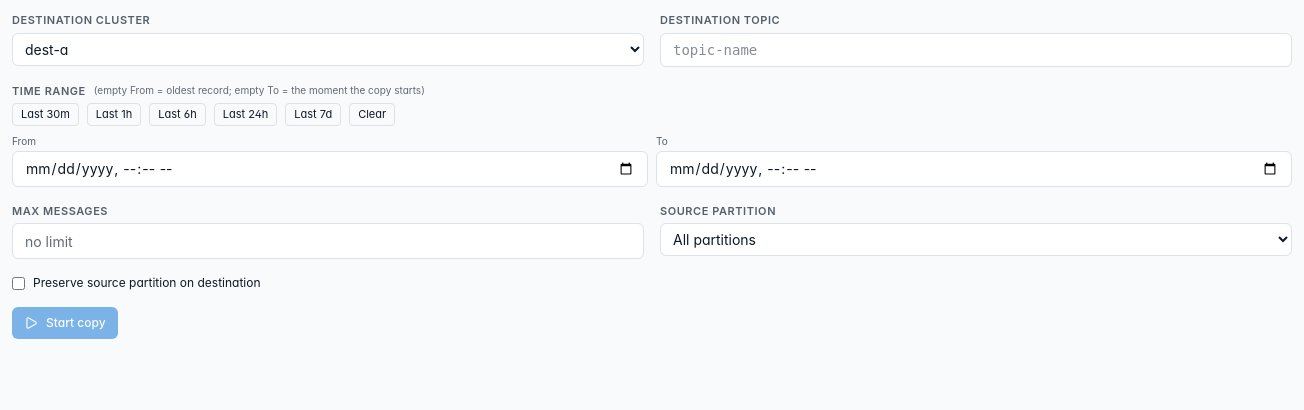
Test: BulkCopyPanel errors › still surfaces other errors verbatim
Type "dest-topic" into the field with placeholder "topic-name" at (976,50), box [660, 32, 1292, 66]
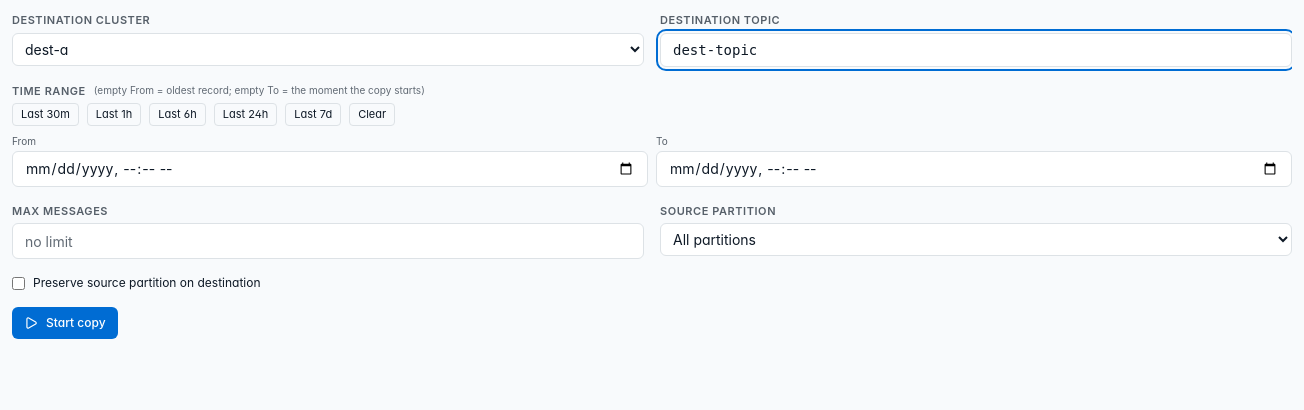
Click the button "Start copy" at (65,323), box [12, 307, 118, 339]
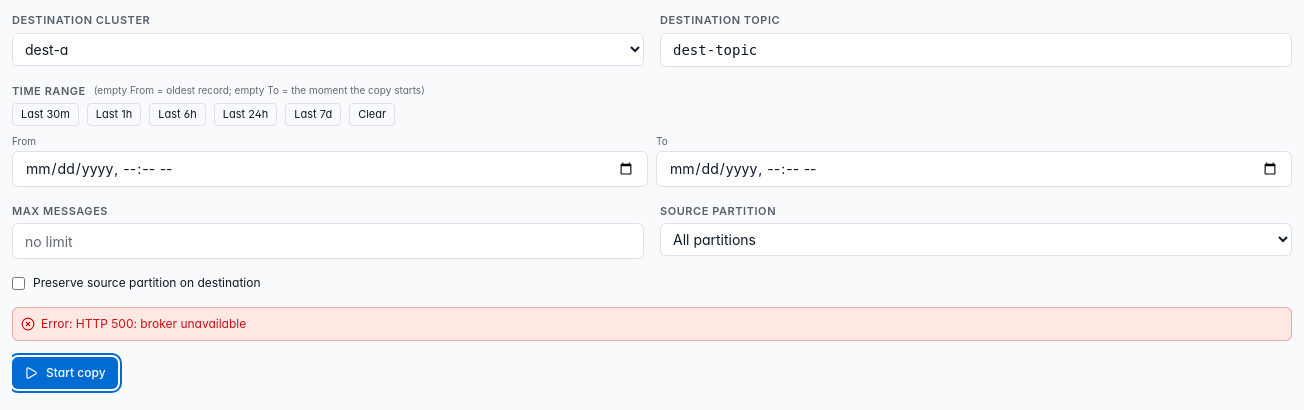
Now the text "Error: HTTP 500: broker unavailable" is shown, box [41, 316, 246, 331]
